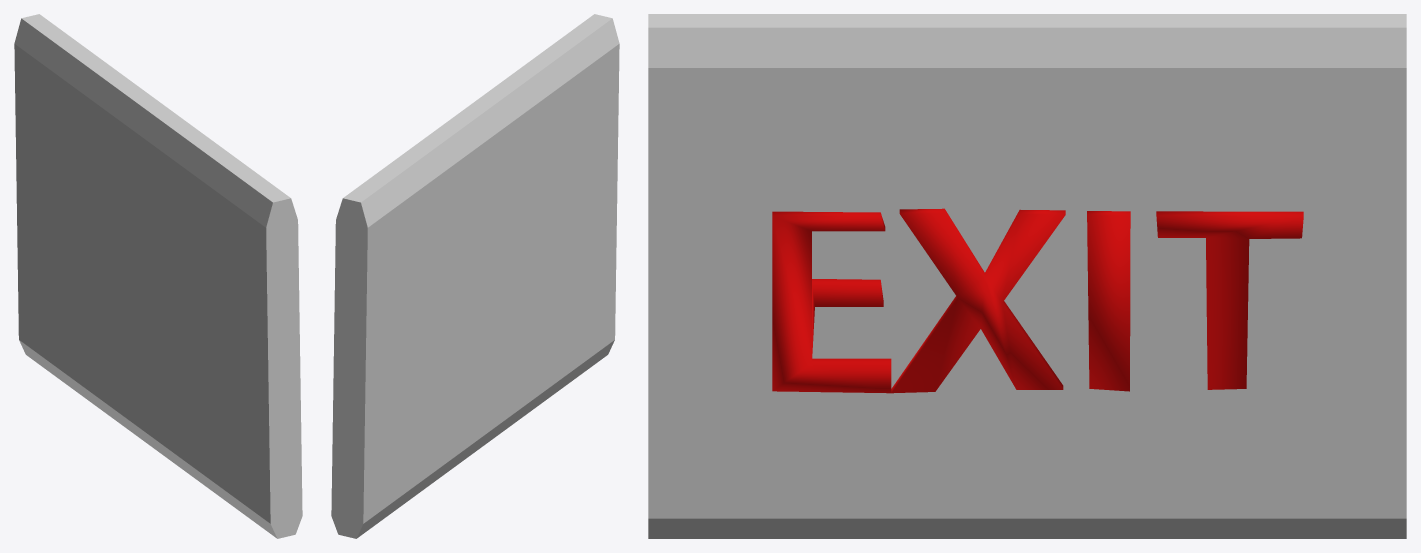
The model's file is exit_sign.glb.
3 views of the same model, side by side, from view 1: azimuth 30°, elevation 25°; view 2: azimuth 150°, elevation 25°; view 3: azimuth 270°, elevation 25° (orthographic). The views are drawn at different scales.
Visible parts, largest first — view 1: Object_3; view 2: Object_3; view 3: Object_3, Object_2.
Boxes of the visible parts, x1=… form: Object_3: x1=14, y1=14, x2=302, y2=538; Object_3: x1=331, y1=14, x2=619, y2=538; Object_3: x1=648, y1=14, x2=1406, y2=538; Object_2: x1=772, y1=208, x2=1303, y2=393.
Bounding box in the file's own units: 0.2419 × 1.89 × 2.55.
